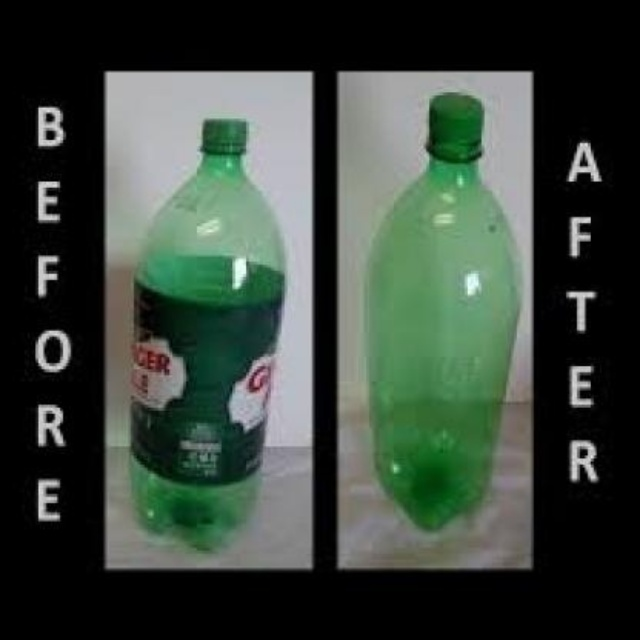trash: (131, 118, 285, 548), (368, 92, 518, 528)
